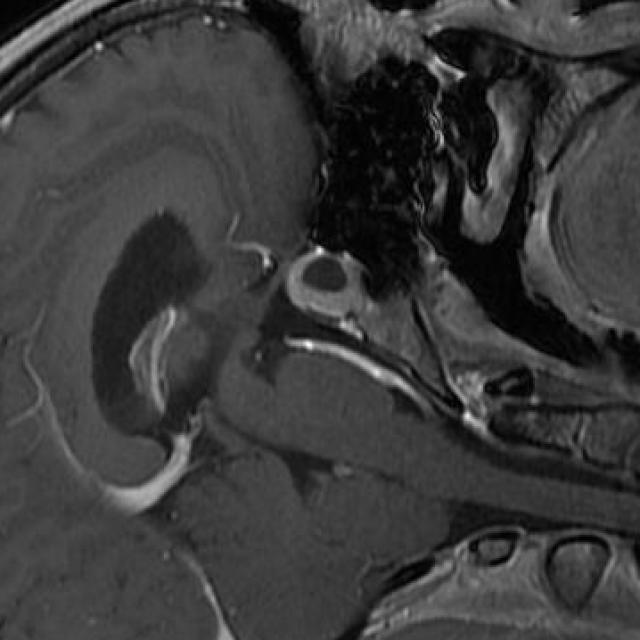pituitary: (289, 248, 367, 319)
